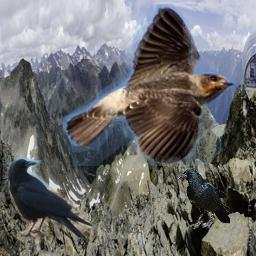Crow: (7, 155, 93, 242), (177, 168, 230, 229)
Swallow: (63, 4, 241, 166)
